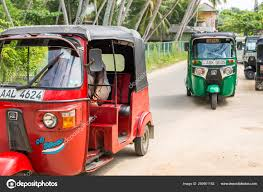tuk tuk: (1, 26, 154, 177), (186, 31, 238, 110), (242, 36, 258, 81)
